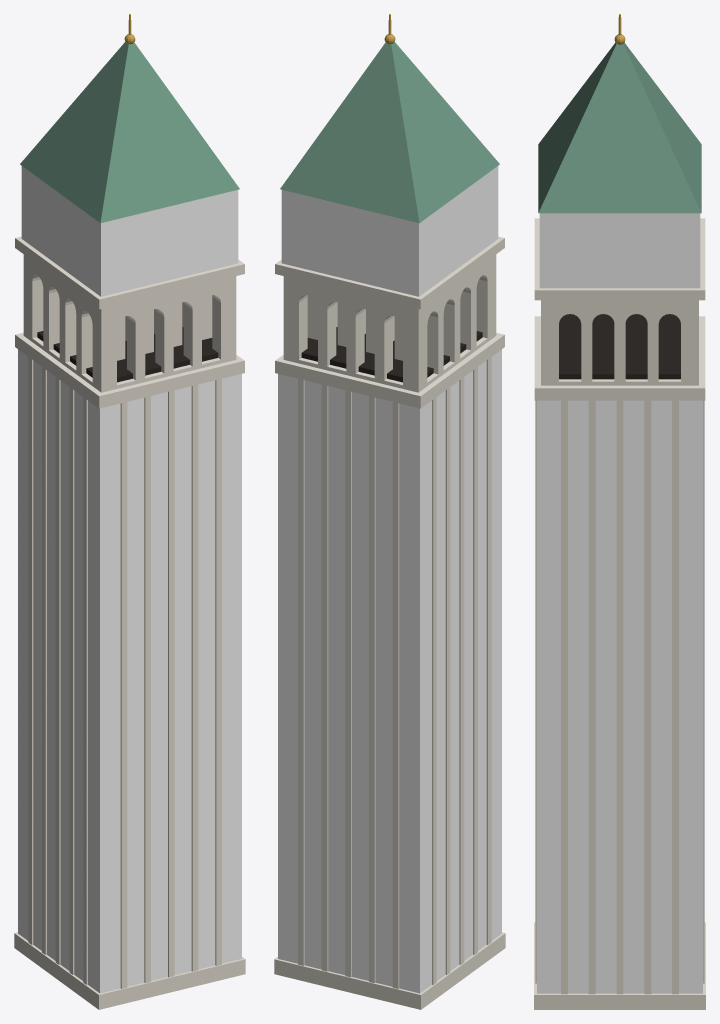
The model's file is campanile.glb.
The picture shows the model from 3 angles, left to right: view 1: azimuth 30°, elevation 25°; view 2: azimuth 150°, elevation 25°; view 3: azimuth 270°, elevation 25°; orthographic projection.
Parts seen in each view (by area): view 1: brick1, copper11, stone7, brick10, stone2_1, stone2_4, stone2_3, stone2_2, stone2_5, stone0, stone6, stone5_1 (+6 smaller); view 2: brick1, copper11, stone7, brick10, stone4_5, stone4_2, stone4_3, stone4_1, stone4_4, stone0, stone6, stone5_5 (+6 smaller); view 3: brick1, copper11, brick10, stone7, dark8, stone3_2, stone3_4, stone3_3, stone3_1, stone3_5, stone6, stone0 (+3 smaller).
Boxes of the visible parts, x1,y1,x2,y2 form: brick1: [18, 349, 241, 993]; copper11: [20, 42, 239, 223]; stone7: [23, 254, 236, 392]; brick10: [21, 166, 238, 296]; stone2_1: [120, 402, 127, 988]; stone2_4: [191, 384, 198, 971]; stone2_3: [168, 390, 174, 977]; stone2_2: [144, 396, 150, 983]; stone2_5: [215, 379, 221, 965]; stone0: [14, 932, 245, 1009]; stone6: [15, 332, 244, 408]; stone5_1: [28, 357, 33, 944]; brick1: [278, 349, 501, 993]; copper11: [280, 42, 499, 223]; stone7: [283, 254, 496, 392]; brick10: [281, 166, 498, 296]; stone4_5: [392, 402, 399, 988]; stone4_2: [321, 384, 328, 971]; stone4_3: [345, 390, 351, 977]; stone4_1: [298, 379, 304, 965]; stone4_4: [369, 396, 375, 983]; stone0: [274, 932, 505, 1009]; stone6: [275, 332, 504, 408]; stone5_5: [486, 357, 491, 944]; brick1: [537, 400, 702, 993]; copper11: [538, 43, 701, 213]; brick10: [539, 213, 700, 288]; stone7: [541, 300, 698, 385]; dark8: [559, 314, 680, 379]; stone3_2: [588, 400, 595, 994]; stone3_4: [644, 400, 651, 994]; stone3_3: [616, 400, 623, 994]; stone3_1: [561, 400, 567, 994]; stone3_5: [672, 400, 678, 994]; stone6: [534, 316, 705, 400]; stone0: [534, 922, 705, 1009].
Size of the model in its own units: 12.4 by 76.4 by 12.4.
